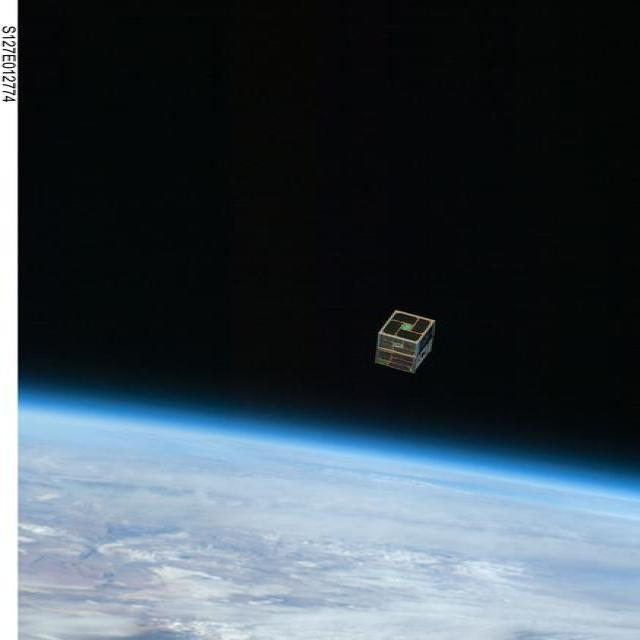satellite: (368, 309, 445, 379)
